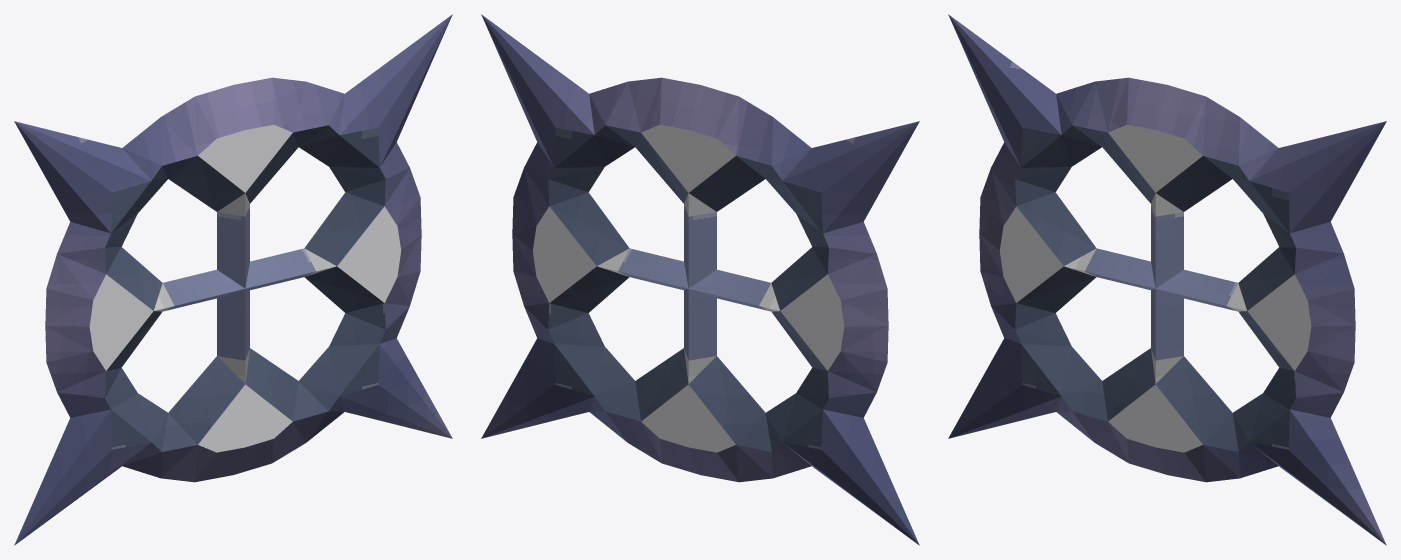
Rendered from doldrums.obj.
The picture shows the model from 3 angles, left to right: view 1: azimuth 30°, elevation 25°; view 2: azimuth 150°, elevation 25°; view 3: azimuth 330°, elevation 25°; orthographic projection.
Size of the model in its own units: 63.83 by 59.04 by 6.
